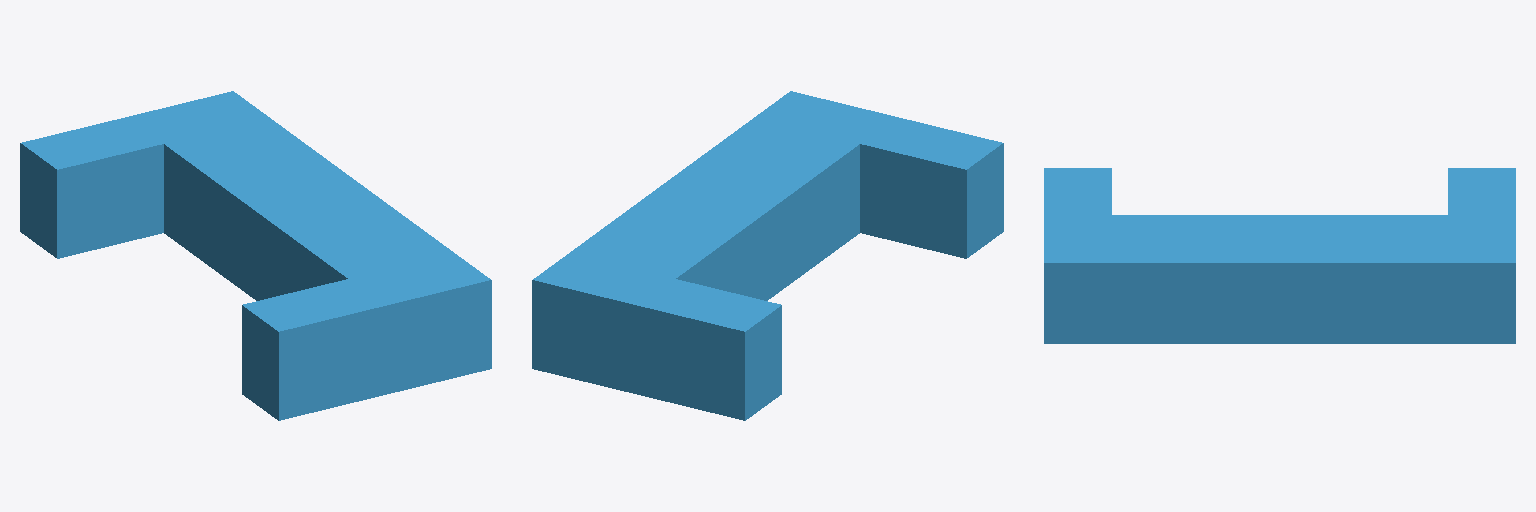
The robot description file, URDF, robot "handle":
<?xml version="0.0" ?>
<!--
  ~ Copyright 2020 Google LLC
  ~
  ~ Licensed under the Apache License, Version 2.0 (the "License");
  ~ you may not use this file except in compliance with the License.
  ~ You may obtain a copy of the License at
  ~
  ~     https://www.apache.org/licenses/LICENSE-2.0
  ~
  ~ Unless required by applicable law or agreed to in writing, software
  ~ distributed under the License is distributed on an "AS IS" BASIS,
  ~ WITHOUT WARRANTIES OR CONDITIONS OF ANY KIND, either express or implied.
  ~ See the License for the specific language governing permissions and
  ~ limitations under the License.
  -->

<robot name="handle">
    <link name="root">
        <origin xyz="0 0 0"/>
        <inertial>
            <origin rpy="0 0 0" xyz="0.0 0.0 0.0"/>
            <mass value="10.0"/>
            <inertia ixx="1" ixy="0" ixz="0" iyy="1" iyz="0" izz="1"/>
        </inertial>
    </link>
    <link name="handleBody">
        <inertial>
            <origin rpy="0 0 0" xyz="0.0 0.0 0.1"/>
            <mass value="1.0"/>
            <inertia ixx="1" ixy="0" ixz="0" iyy="1" iyz="0" izz="1"/>
        </inertial>
        <visual>
            <origin rpy="0 0 0" xyz="0.0 0.0 0.0"/>
            <geometry>
                <mesh filename="handle.obj" scale="1 1 1"/>
            </geometry>
        </visual>
        <collision>
            <origin rpy="0 0 0" xyz="0.0 0.0 0.0"/>
            <geometry>
                <mesh filename="handle.obj" scale="1 1 1"/>
            </geometry>
        </collision>
    </link>
    <joint name="root" type="continuous">
        <parent link="root"/>
        <child link="handleBody"/>
        <origin rpy="0 0 0" xyz="0. 0.0 0.0"/>
        <axis xyz="0 -1 0"/>
    </joint>
</robot>

--- What the picture shows (computed from the rendered views, not written in the file) ---
3 views of the same robot in one strip: view 1: azimuth 30°, elevation 25°; view 2: azimuth 150°, elevation 25°; view 3: azimuth 270°, elevation 25° (orthographic).
Model handle with 2 links and 1 joints (1 continuous), rooted at root, posed all joints at 0.
Visible links, largest first — view 1: handleBody; view 2: handleBody; view 3: handleBody.
Boxes of the visible links, left/top/right/bottom form: handleBody: left=20, top=91, right=491, bottom=420; handleBody: left=532, top=91, right=1003, bottom=420; handleBody: left=1044, top=168, right=1515, bottom=343.
Bounding box of the posed robot: 0.1 × 0.21 × 0.04 m (x, y, z).
Meshes: 1 distinct files referenced, 1 mesh visuals loaded (1 OBJ).